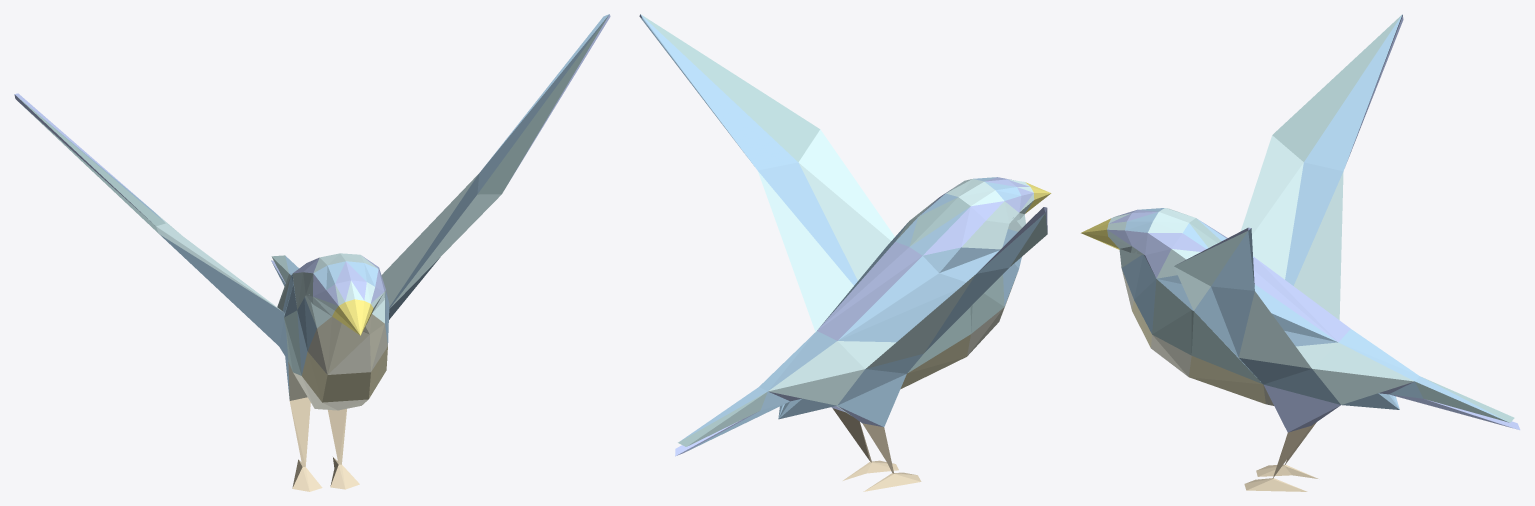
File: bird-blue-3.gltf
3 renders of one model, left to right at view 1: azimuth 30°, elevation 25°; view 2: azimuth 150°, elevation 25°; view 3: azimuth 270°, elevation 25°, orthographic. The views are drawn at different scales.
Visible parts, largest first — view 1: bird_tri; view 2: bird_tri; view 3: bird_tri.
Boxes of the visible parts, <box> form: bird_tri: <box>14,14,610,491</box>; bird_tri: <box>639,14,1051,491</box>; bird_tri: <box>1081,14,1520,491</box>.
Bounding box in the file's own units: 16.93 × 12.92 × 13.72.
